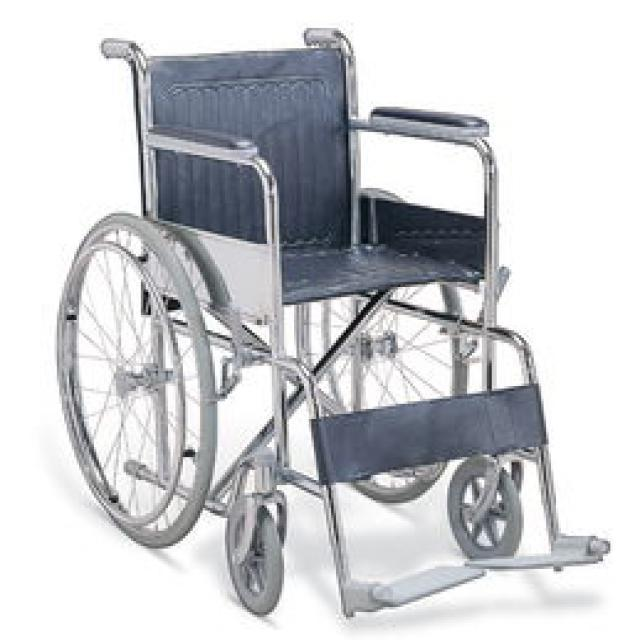wheelchair: (27, 25, 638, 638)
